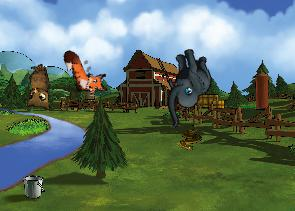elephant: (148, 44, 224, 128)
fox: (60, 41, 111, 102)
owl: (17, 62, 55, 114)
